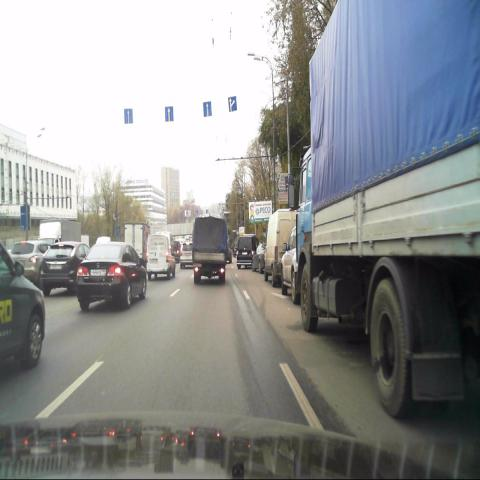5_15_2: (123, 107, 134, 124), (228, 96, 237, 111), (203, 101, 211, 116), (165, 106, 173, 120)
